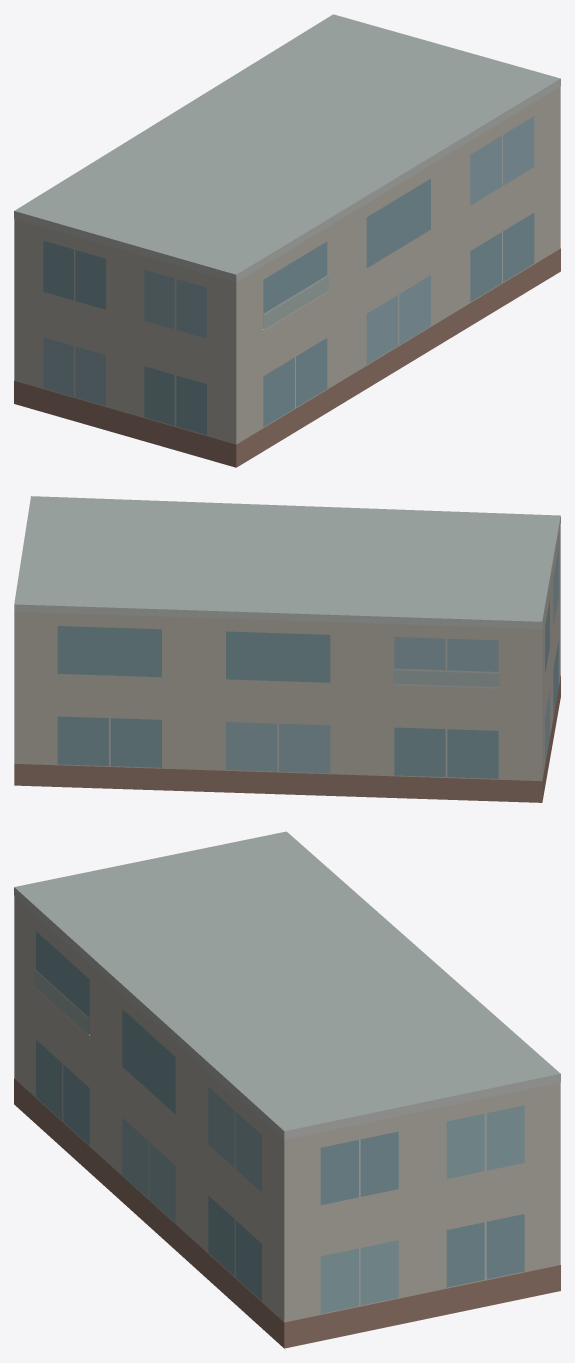
File: survey-upis-32704801.glb
3 renders of one model, top to bottom at view 1: azimuth 30°, elevation 25°; view 2: azimuth 150°, elevation 25°; view 3: azimuth 270°, elevation 25°, orthographic. The views are drawn at different scales.
Parts seen in each view (by area): view 1: survey-upis-32704801.tmp; view 2: survey-upis-32704801.tmp; view 3: survey-upis-32704801.tmp.
Boxes of the visible parts, box(x1,y1,x2,y2) form: survey-upis-32704801.tmp: box(14, 14, 560, 467); survey-upis-32704801.tmp: box(14, 496, 560, 802); survey-upis-32704801.tmp: box(14, 831, 560, 1348).
Size of the model in its own units: 18.07 by 6.1 by 13.92.
